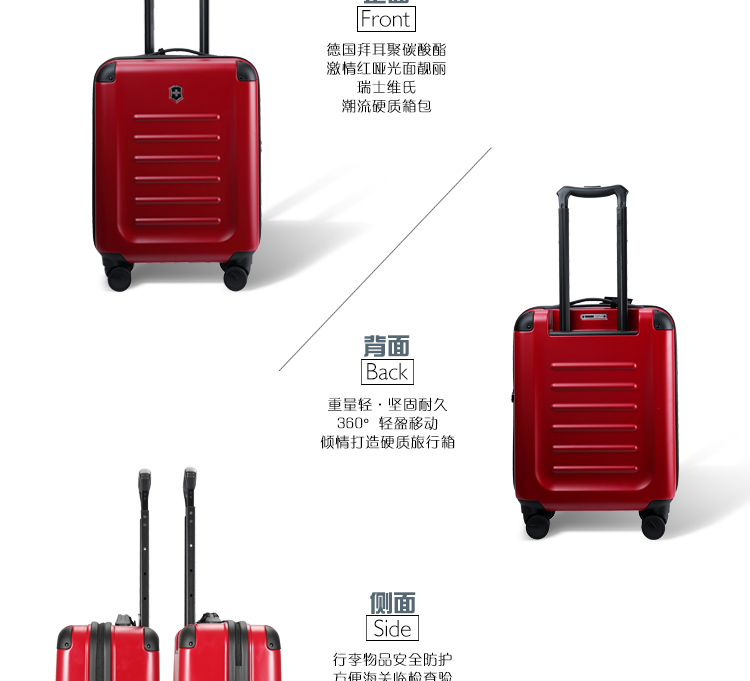luggage: (506, 180, 684, 543)
